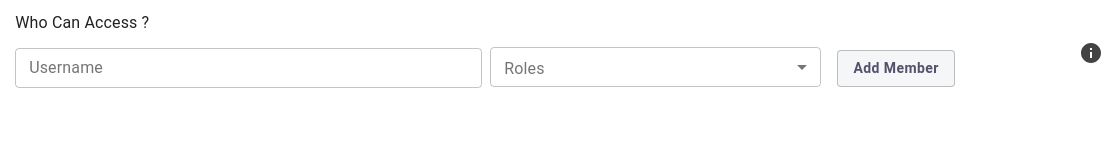
Test: AddMembers › throw error if clicked add member without entering values
The image size is (1118, 160).
Step 1. Click the button "Add Member" → (896, 68), box left=838, top=50, right=955, bottom=87
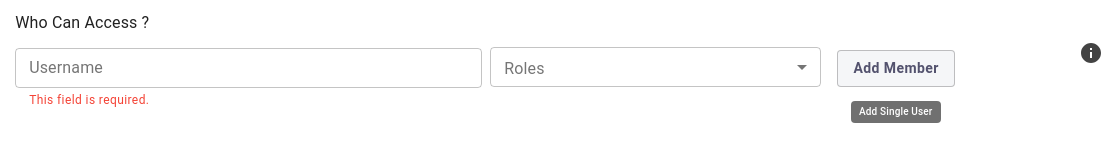
Check: the text "This field is required." is shown, box left=29, top=93, right=149, bottom=107
